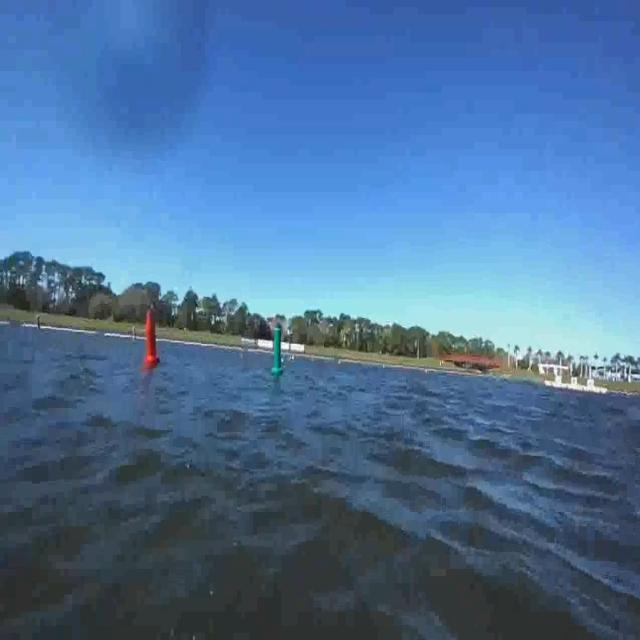green-column-buoy: (272, 327, 286, 376)
red-column-buoy: (142, 311, 160, 367)
